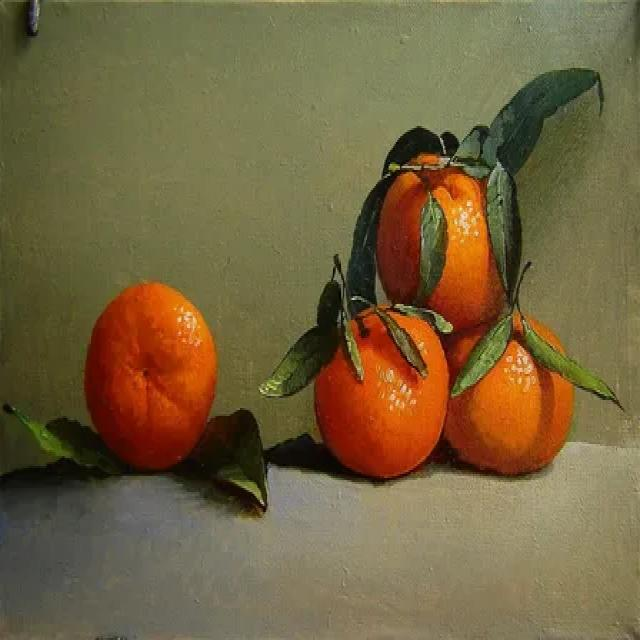orange: (70, 267, 229, 464), (302, 292, 456, 486)
